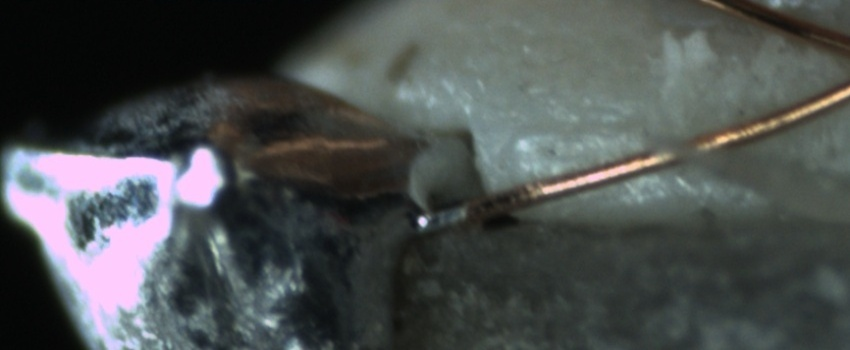DL: (502, 98, 649, 163)
TS: (410, 201, 462, 234)
